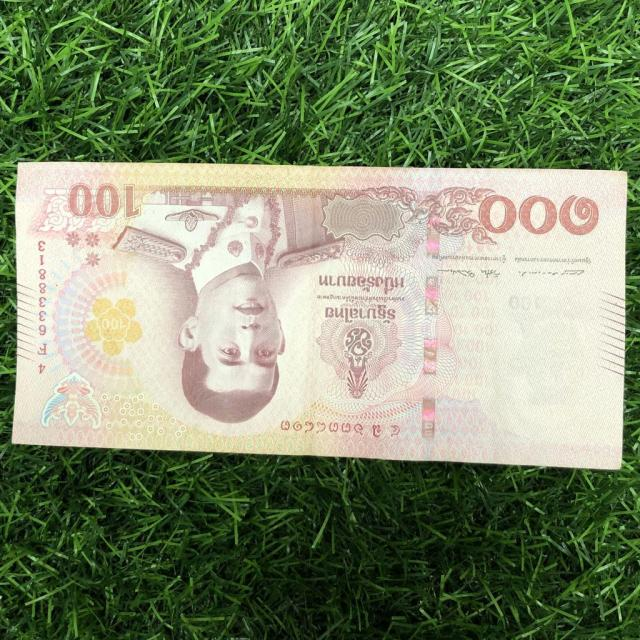THAI100: (12, 163, 626, 469)
